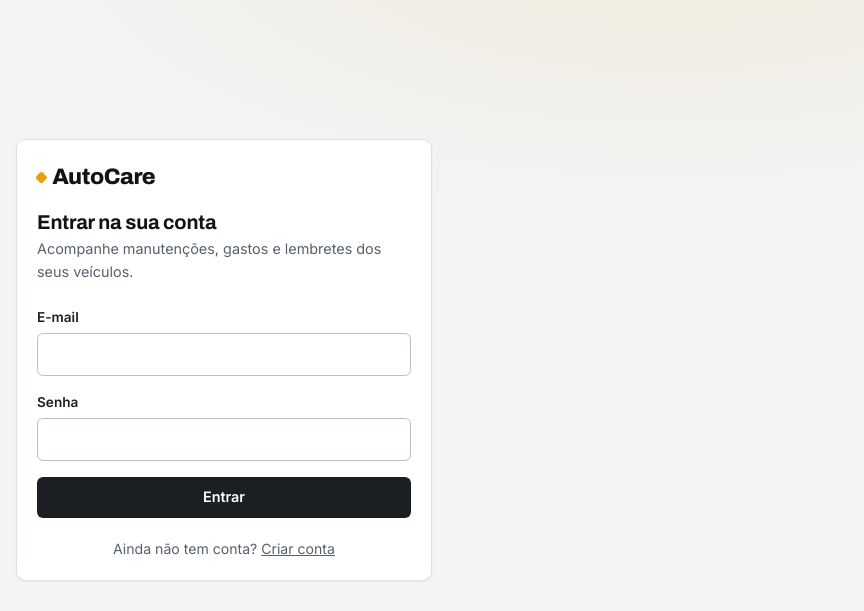
Test: LoginPage › blocks submission when the e-mail is malformed
The image size is (864, 611).
Type "sem-arroba" into the field labelled "E-mail" at (224, 354), box top-left (37, 333), bottom-right (411, 376)
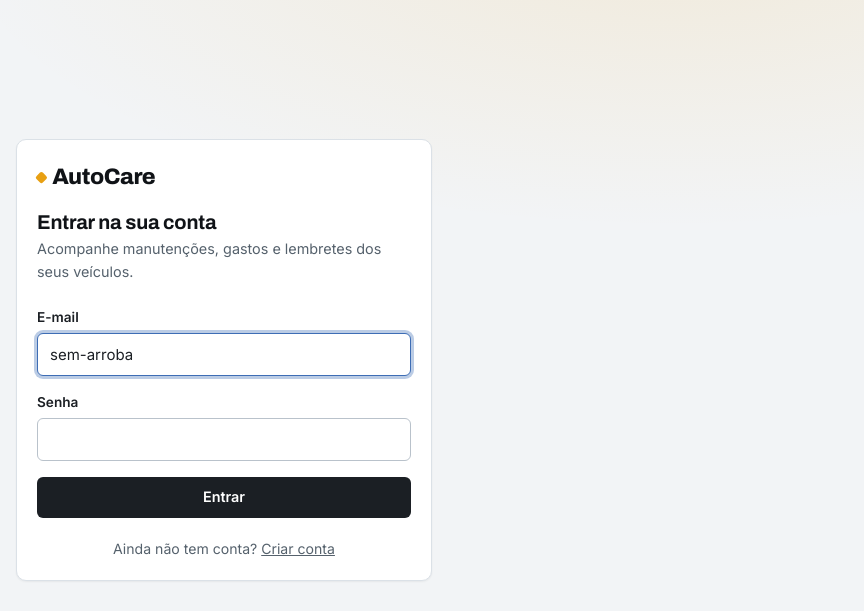
Type "DemoAutoCare123" into the password field labelled "Senha" at (224, 439), box top-left (37, 418), bottom-right (411, 460)
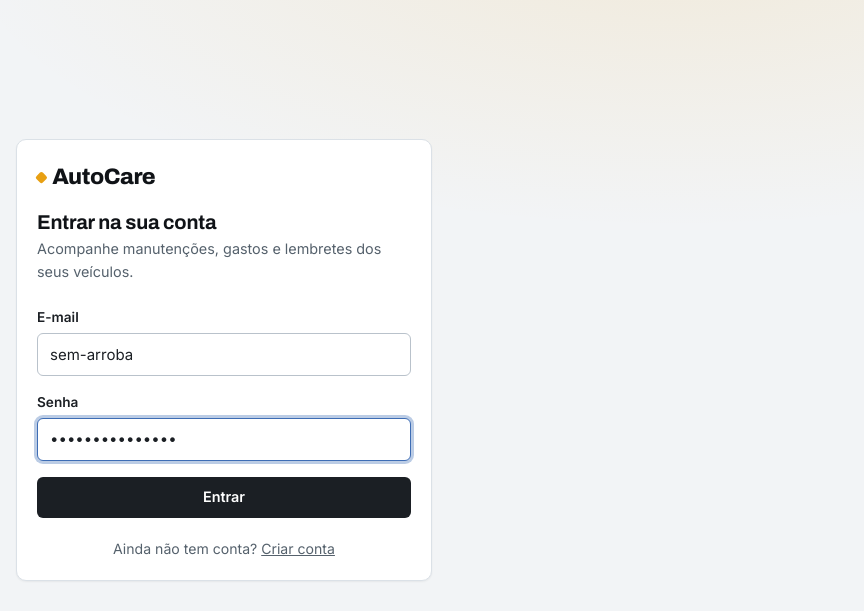
Click the button "Entrar" at (224, 497), box top-left (37, 476), bottom-right (411, 518)
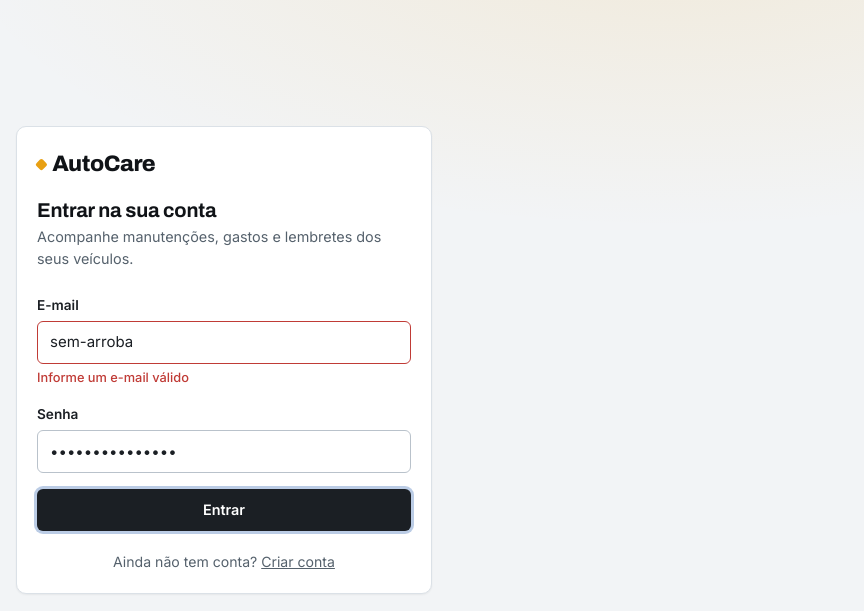
Result: the text "Informe um e-mail válido" is shown at top-left (37, 370), bottom-right (189, 385)
